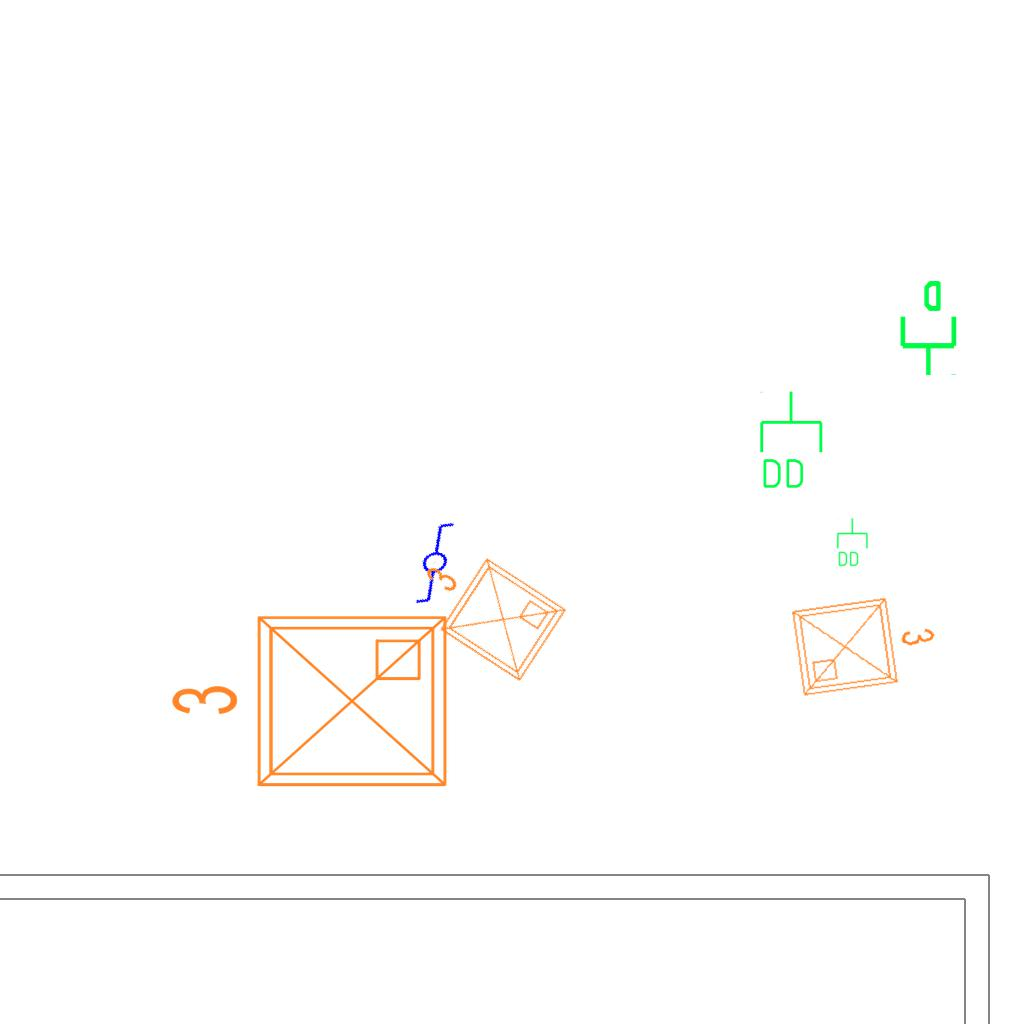Datenanschluss_einfach: (892, 278, 961, 378)
Datenanschluss_zweifach: (756, 389, 825, 492), (835, 517, 869, 568)
Einbaudownlights_LED_Konferenzraeume: (161, 601, 461, 809), (393, 525, 577, 695), (783, 580, 947, 704)
Wechselschalter: (389, 513, 489, 611)
